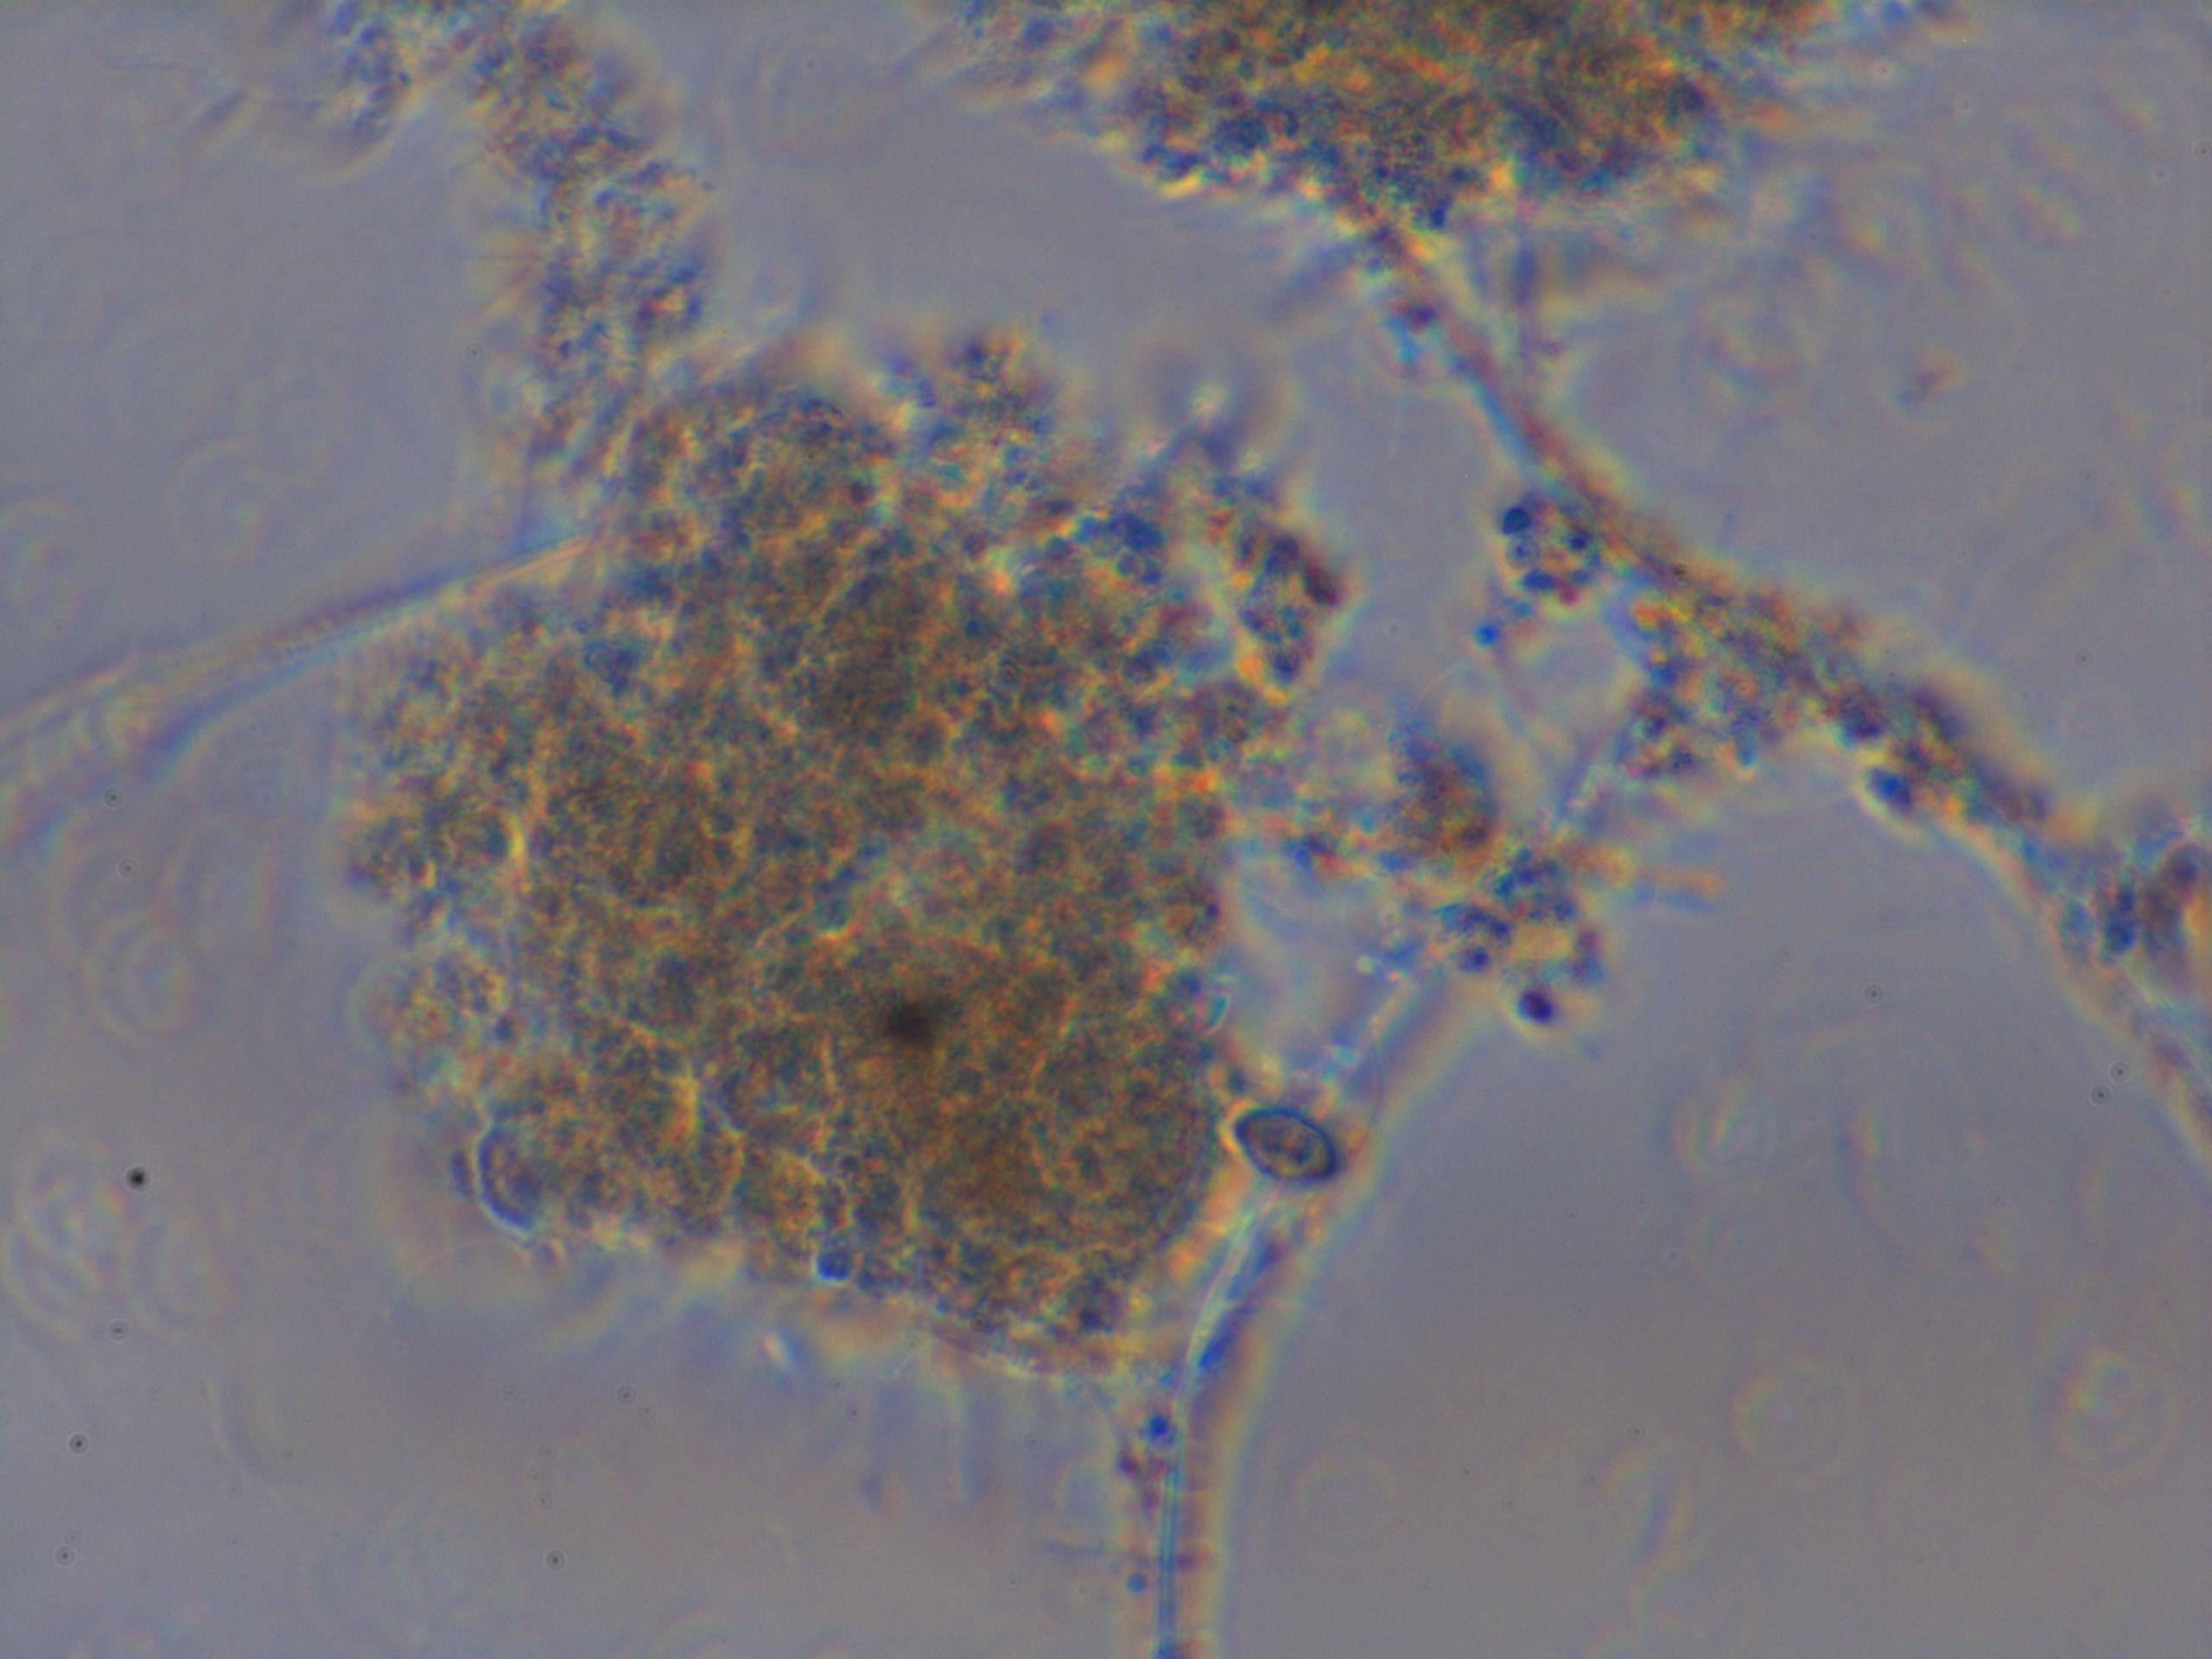spherical_floc: (347, 394, 1341, 1387)
